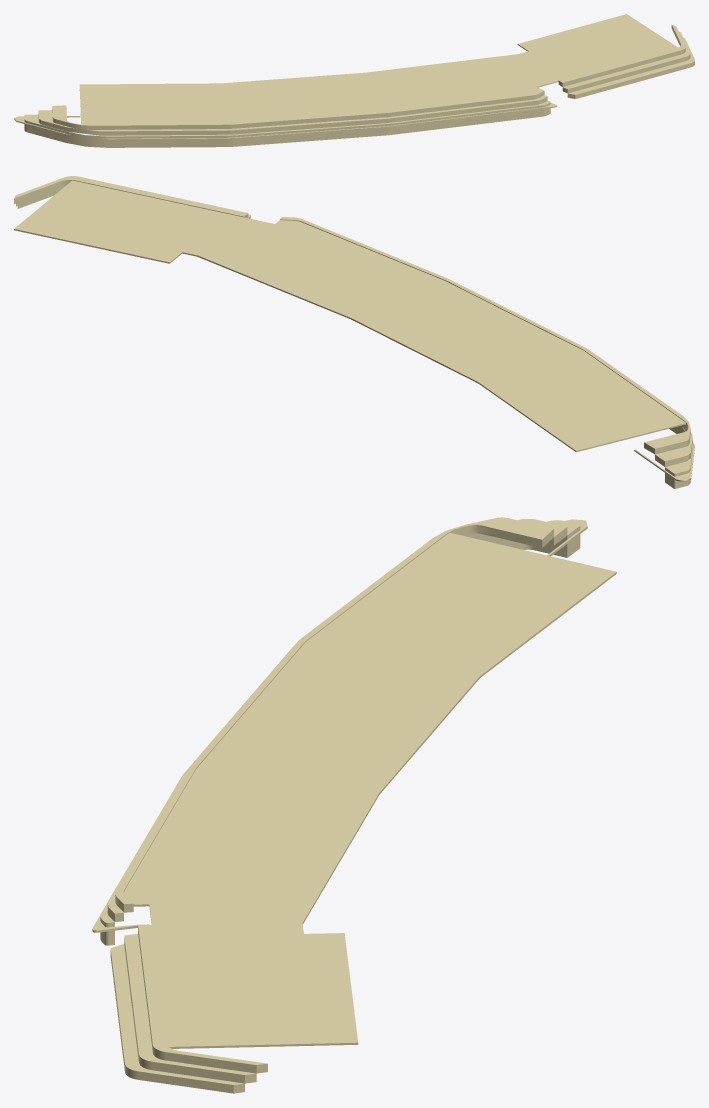
File: Basamento.glb
The picture shows the model from 3 angles, top to bottom: view 1: azimuth 30°, elevation 25°; view 2: azimuth 150°, elevation 25°; view 3: azimuth 270°, elevation 25°; orthographic projection. The views are drawn at different scales.
Visible parts, largest first — view 1: Object_1.001; view 2: Object_1.001; view 3: Object_1.001.
Boxes of the visible parts, <box> form: Object_1.001: <box>14,14,694,147</box>; Object_1.001: <box>14,176,694,488</box>; Object_1.001: <box>92,517,616,1093</box>.
Size of the model in its own units: 173 by 5.59 by 67.15.
